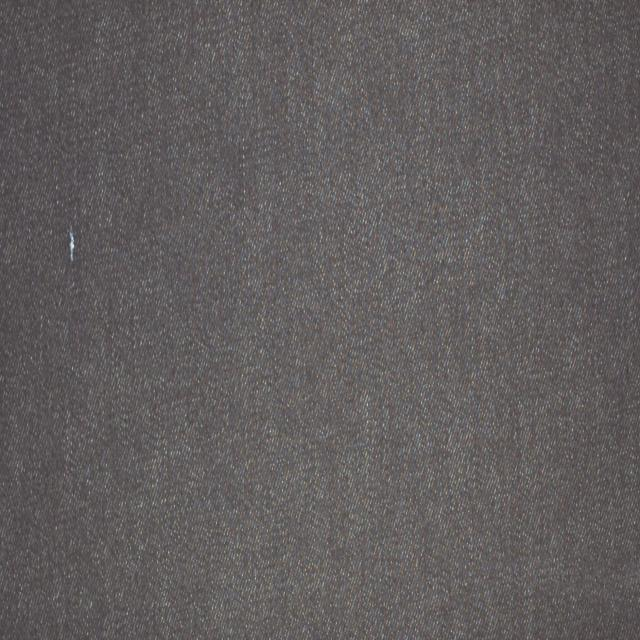Knot: (66, 227, 76, 264)
